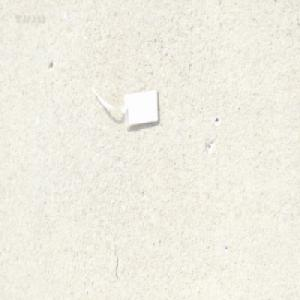LuggageTag: (89, 72, 161, 130)
